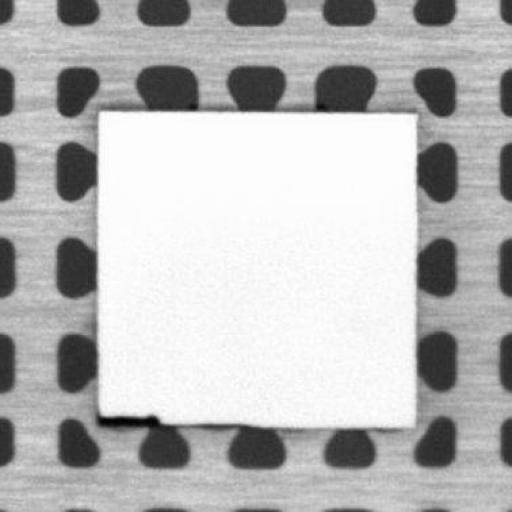DIE_BROKEN: (94, 411, 162, 427)
